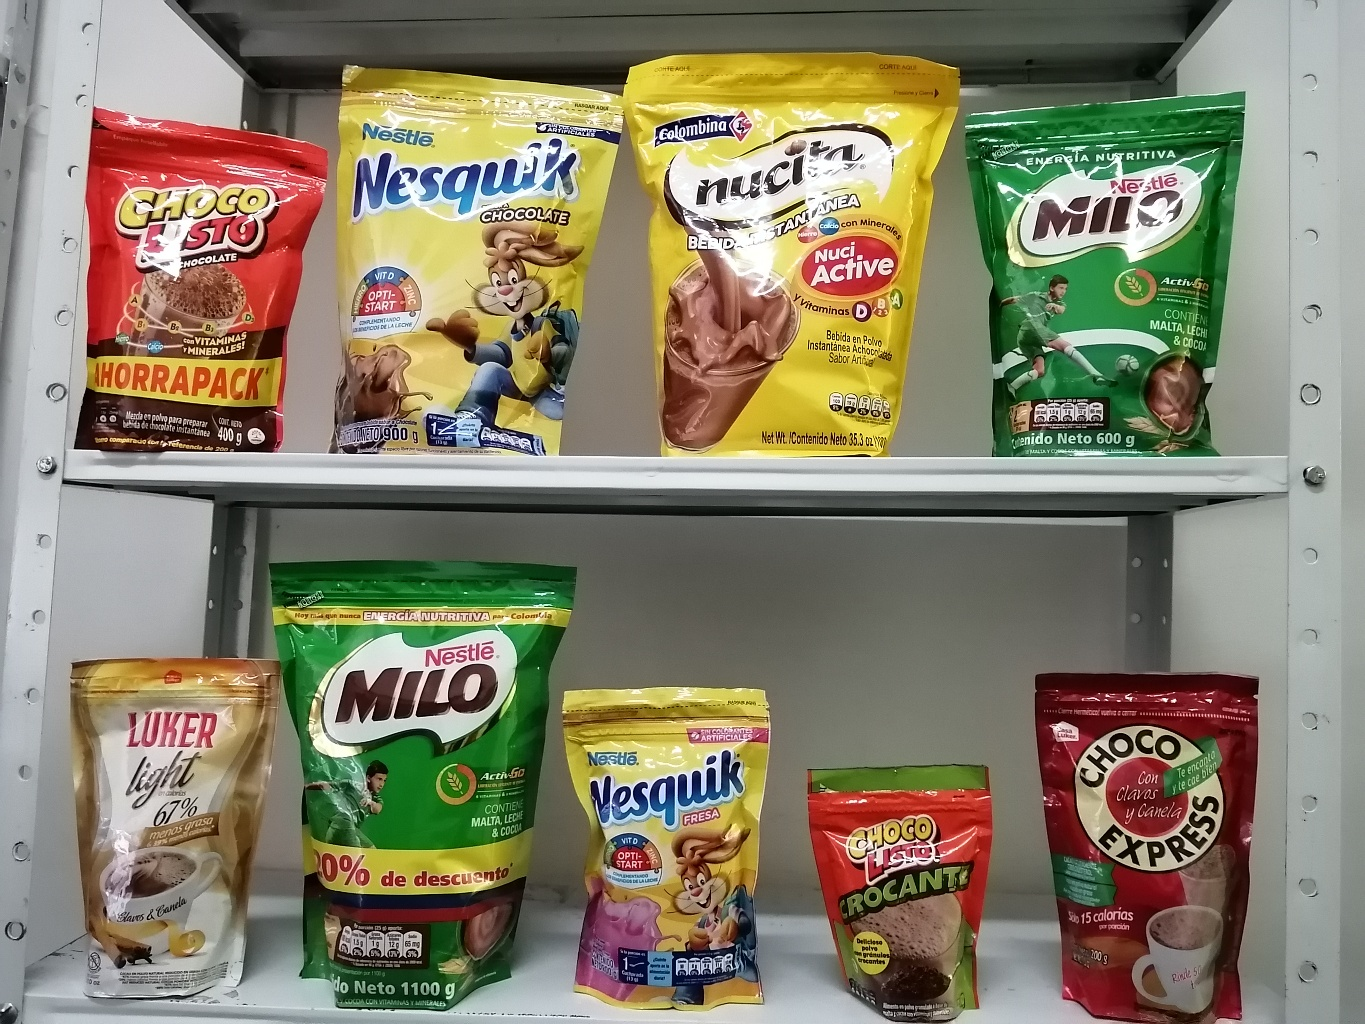COL0170102DYP10000: (798, 755, 1037, 1022)
COL0170103DYP40000: (85, 110, 330, 445)
COL0170305DYP20000: (565, 675, 793, 1002)
